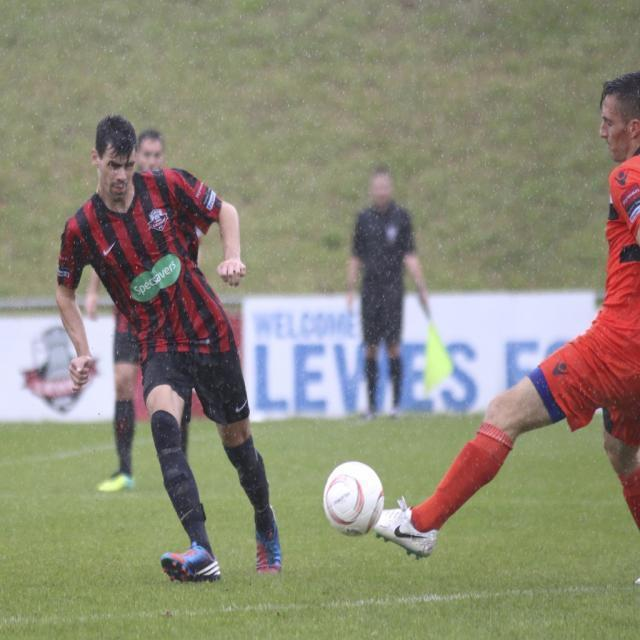ball: (319, 459, 386, 542)
